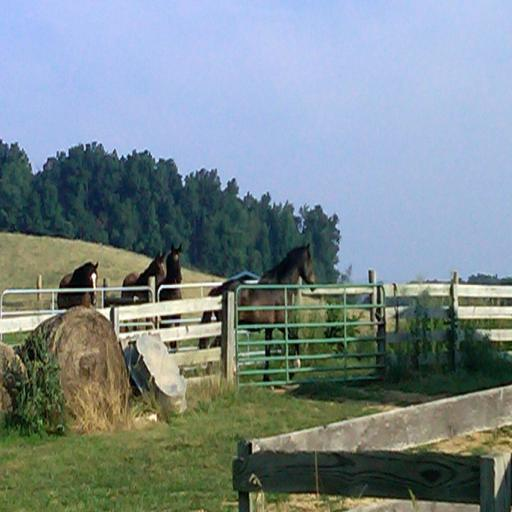horse: (195, 239, 318, 387), (120, 248, 166, 346), (156, 240, 180, 352), (56, 258, 100, 308)
